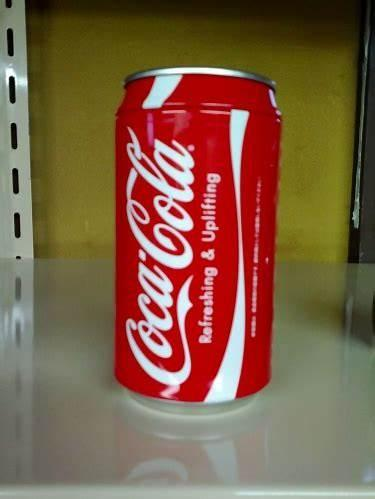metal: (115, 67, 282, 404)
